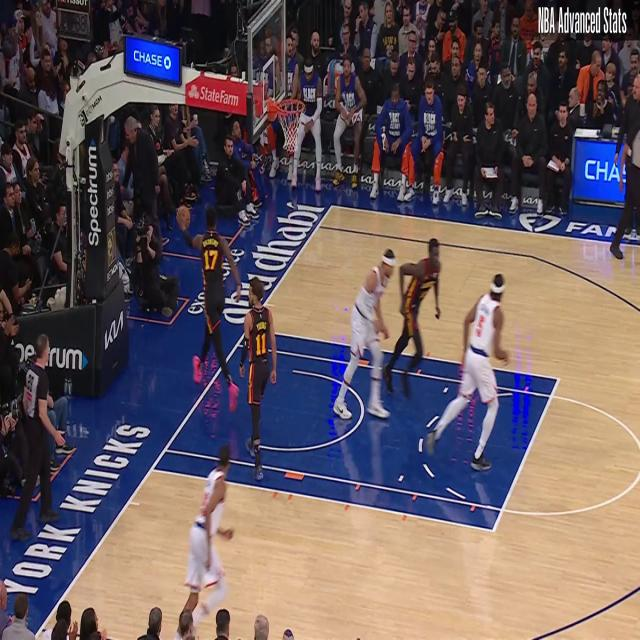ball: (176, 201, 192, 230)
judge: (11, 336, 65, 536)
player: (426, 268, 510, 473), (180, 206, 244, 412), (182, 450, 236, 632), (337, 248, 390, 426), (384, 238, 442, 396), (240, 278, 277, 476)
